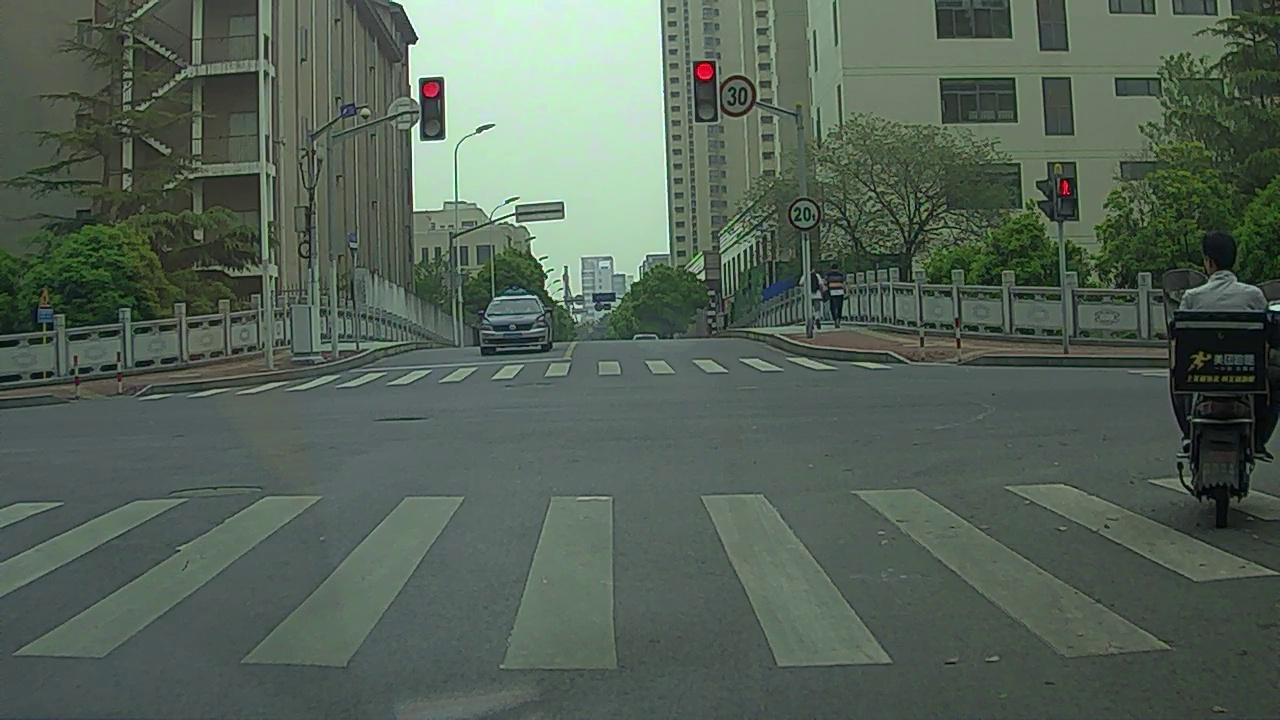traffic_light: (421, 77, 446, 141), (695, 60, 720, 123)
